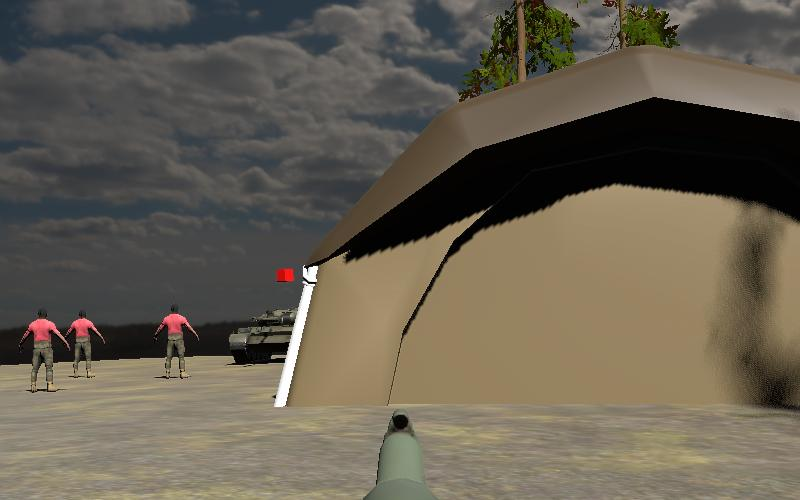Human: (18, 308, 70, 393), (153, 302, 199, 380), (65, 308, 105, 379)
Tank: (228, 305, 299, 365)
